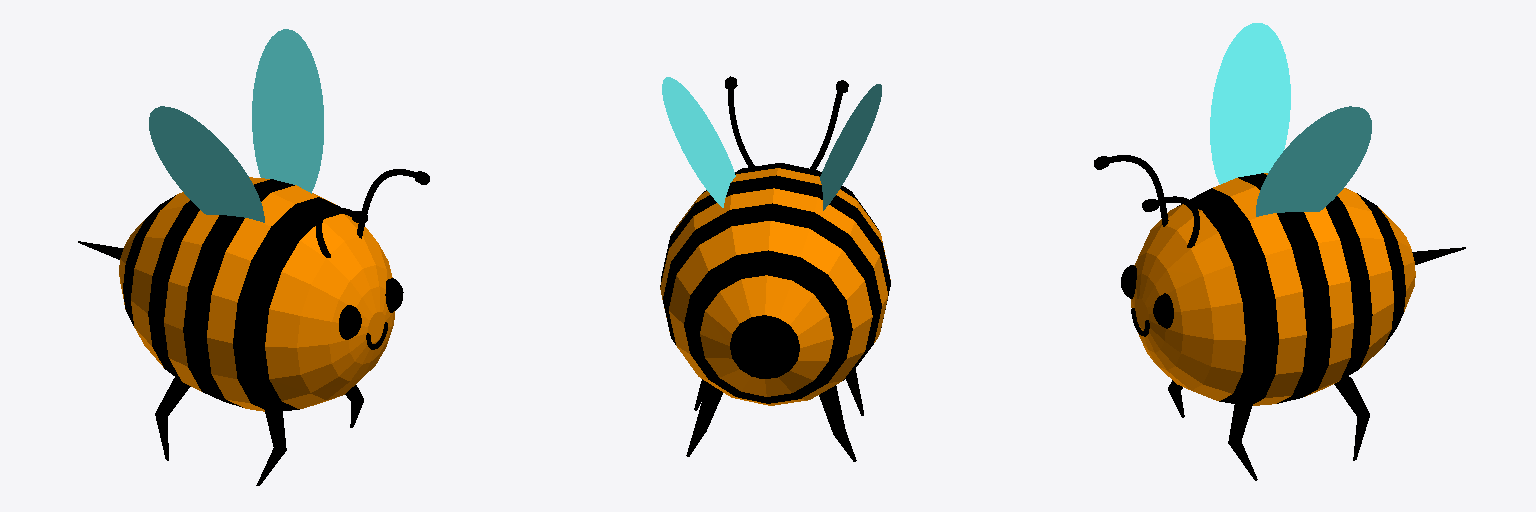
File: bee2.obj
3 renders of one model, left to right at view 1: azimuth 30°, elevation 25°; view 2: azimuth 150°, elevation 25°; view 3: azimuth 270°, elevation 25°, orthographic.
Visible parts, largest first — view 1: Cylinder.002_Cylinder.005; view 2: Cylinder.002_Cylinder.005; view 3: Cylinder.002_Cylinder.005.
Boxes of the visible parts, <box> form: Cylinder.002_Cylinder.005: <box>78,29,429,485</box>; Cylinder.002_Cylinder.005: <box>660,76,890,461</box>; Cylinder.002_Cylinder.005: <box>1094,23,1465,480</box>.
Size of the model in its own units: 0.025 by 0.0407 by 0.0374.